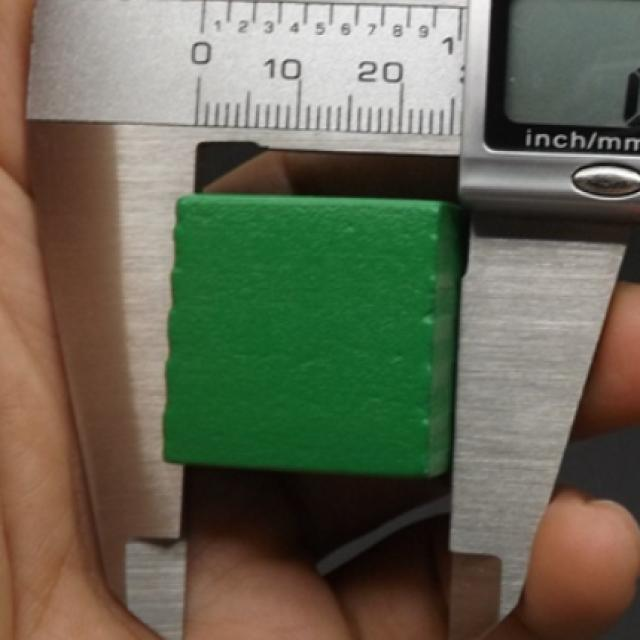green cube: (164, 193, 464, 479)
